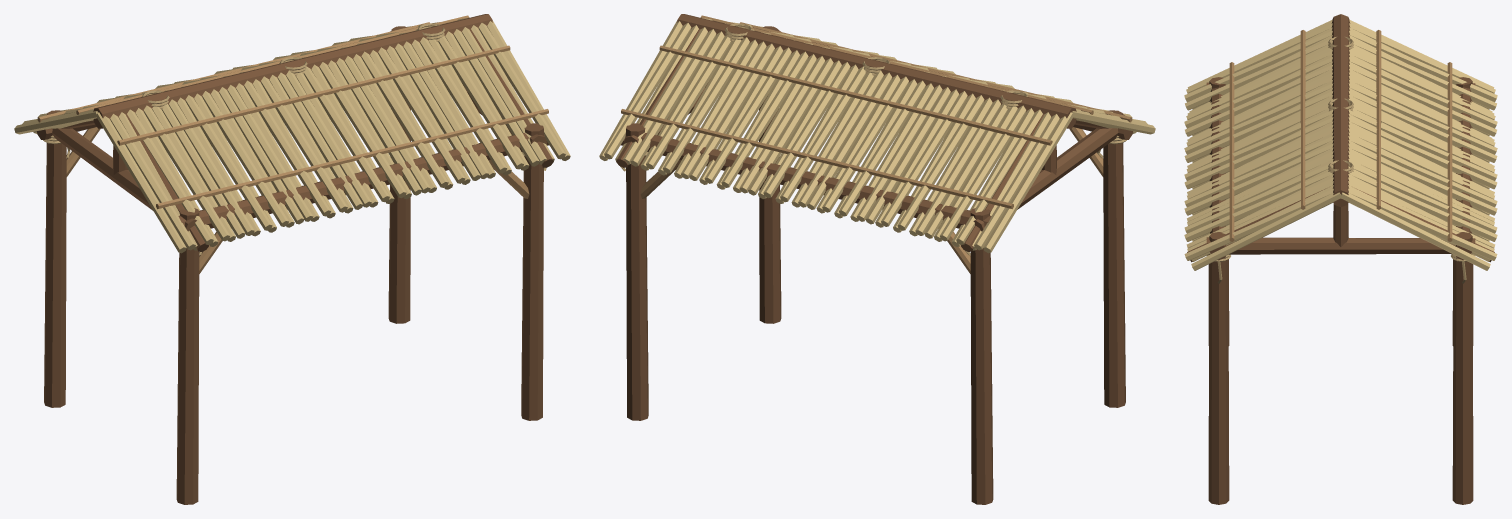
3 views of the same model, side by side, from view 1: azimuth 30°, elevation 25°; view 2: azimuth 150°, elevation 25°; view 3: azimuth 270°, elevation 25° (orthographic). The views are drawn at different scales.
Parts seen in each view (by area): view 1: BA-0001 batched; view 2: BA-0001 batched; view 3: BA-0001 batched.
Boxes of the visible parts, <box> form: BA-0001 batched: <box>14,14,570,504</box>; BA-0001 batched: <box>599,14,1155,504</box>; BA-0001 batched: <box>1184,14,1497,504</box>.
Bounding box in the file's own units: 3.43 × 2.91 × 2.57.
